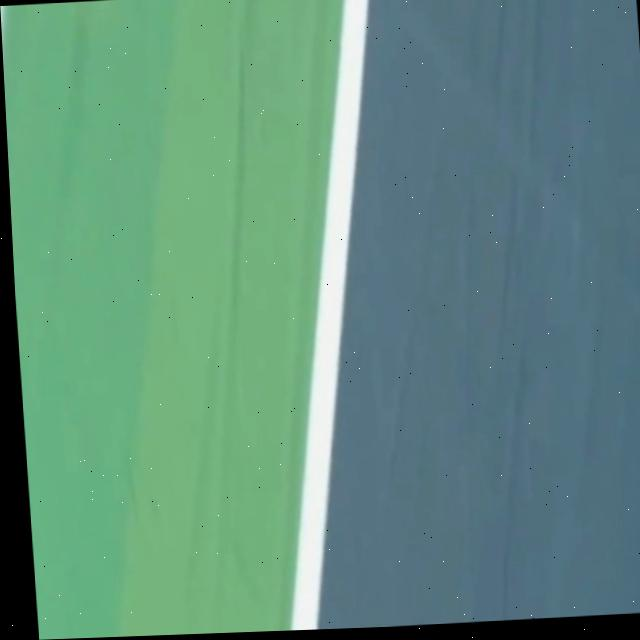right: (292, 0, 369, 630)
